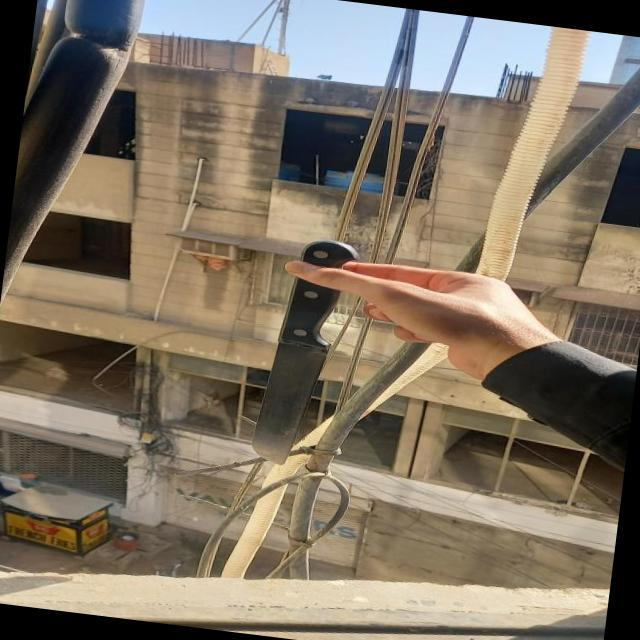Knife: (222, 224, 373, 475)
